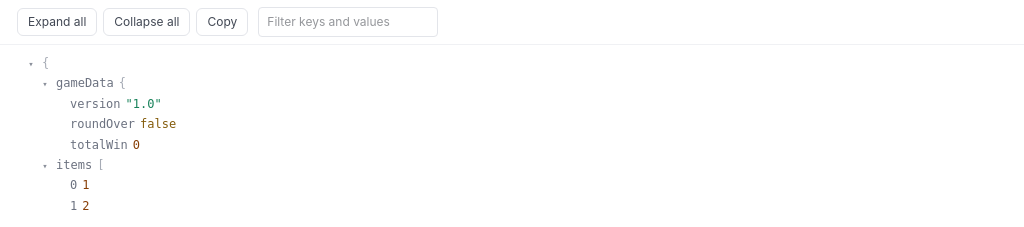
Test case: filtering a response › shows only the path to a match
The image size is (1024, 227).
Type "totalWin" into the search field named "Filter response" at (348,22), box [258, 7, 438, 37]
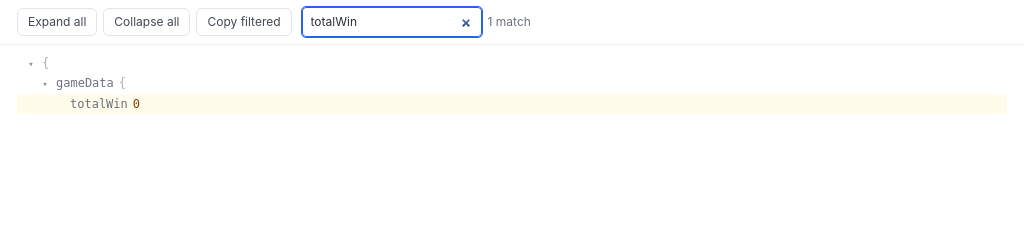
Expected: the text "totalWin" is shown, [70, 94, 128, 114]
Expected: the text "version" is gone
Expected: the text "items" is gone
